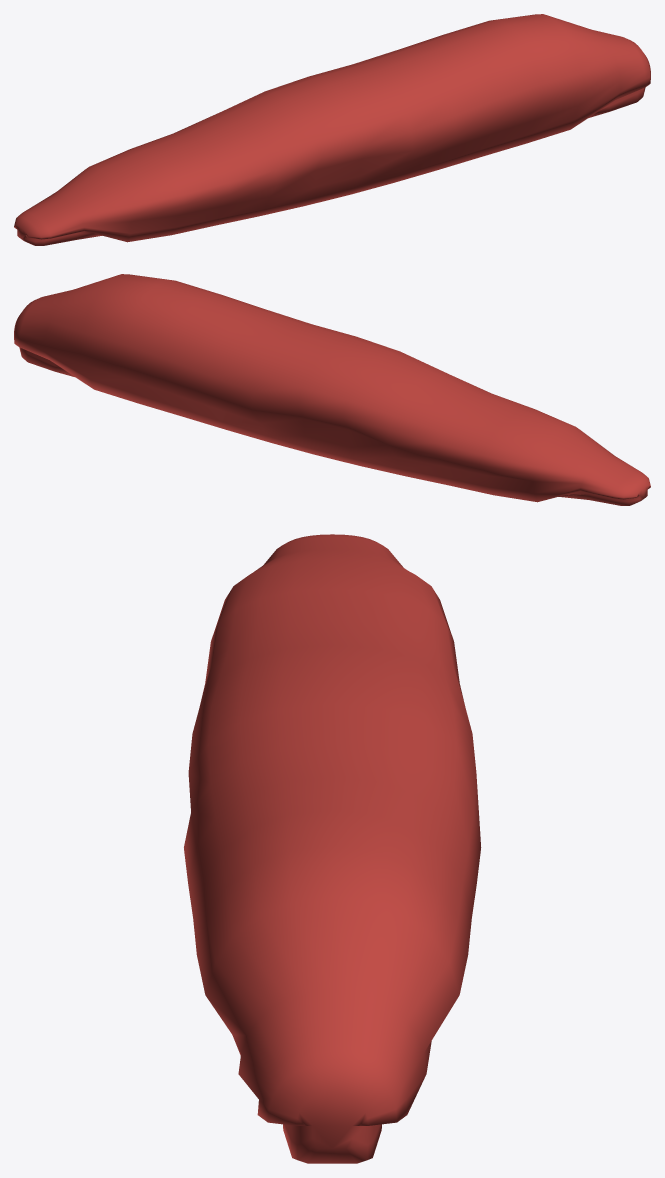
File: peanut_lod1.glb
The picture shows the model from 3 angles, top to bottom: view 1: azimuth 30°, elevation 25°; view 2: azimuth 150°, elevation 25°; view 3: azimuth 270°, elevation 25°; orthographic projection. The views are drawn at different scales.
Visible parts, largest first — view 1: peanut_lod1; view 2: peanut_lod1; view 3: peanut_lod1.
Boxes of the visible parts, x1,y1,x2,y2 form: peanut_lod1: (14,14,650,245); peanut_lod1: (14,274,650,505); peanut_lod1: (184,534,481,1163).
Size of the model in its own units: 1 by 0.1748 by 0.2074.
